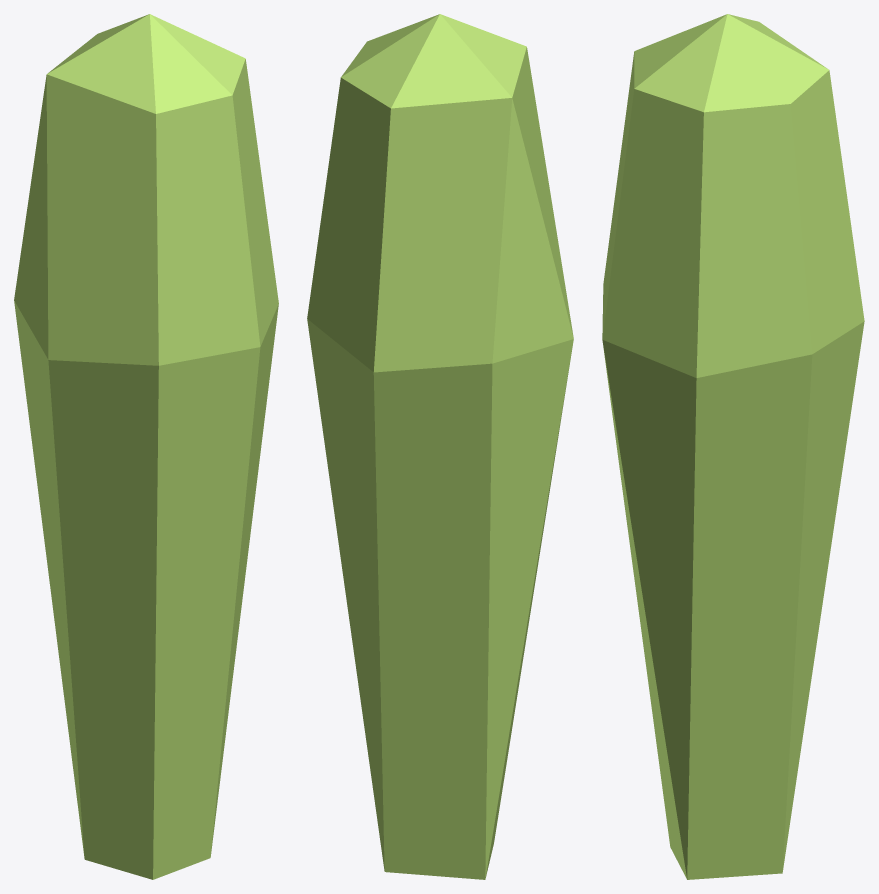
File: Cactus_s_BT_01.fbx
3 views of the same model, side by side, from view 1: azimuth 30°, elevation 25°; view 2: azimuth 150°, elevation 25°; view 3: azimuth 270°, elevation 25° (orthographic).
Visible parts, largest first — view 1: Cactus_s_BT_01; view 2: Cactus_s_BT_01; view 3: Cactus_s_BT_01.
Part boxes in pixels (<box>): Cactus_s_BT_01: <box>14,14,278,879</box>; Cactus_s_BT_01: <box>307,14,573,879</box>; Cactus_s_BT_01: <box>602,14,864,879</box>.
Size of the model in its own units: 18.78 by 65.25 by 18.33.
